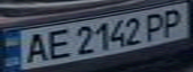1: (93, 19, 112, 52)
2: (72, 22, 96, 56), (121, 15, 148, 45)
4: (109, 16, 130, 48)
A: (18, 29, 51, 65)
E: (42, 27, 75, 61)
P: (157, 6, 190, 38), (139, 10, 172, 40)
